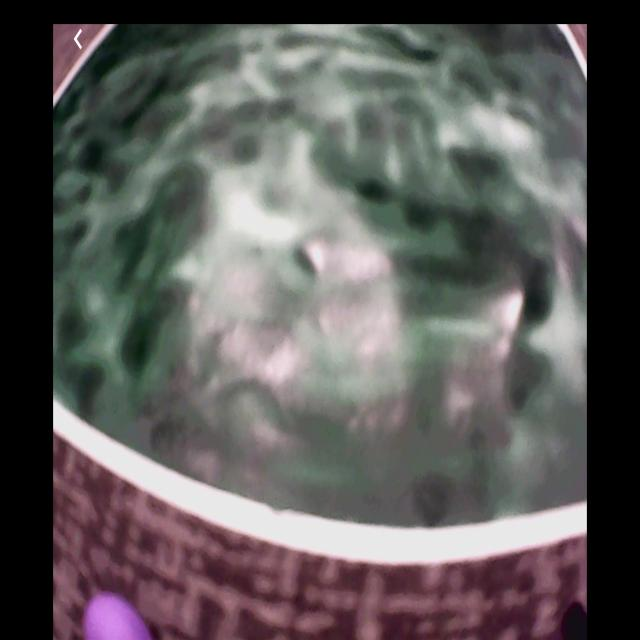ball: (83, 592, 149, 640)
